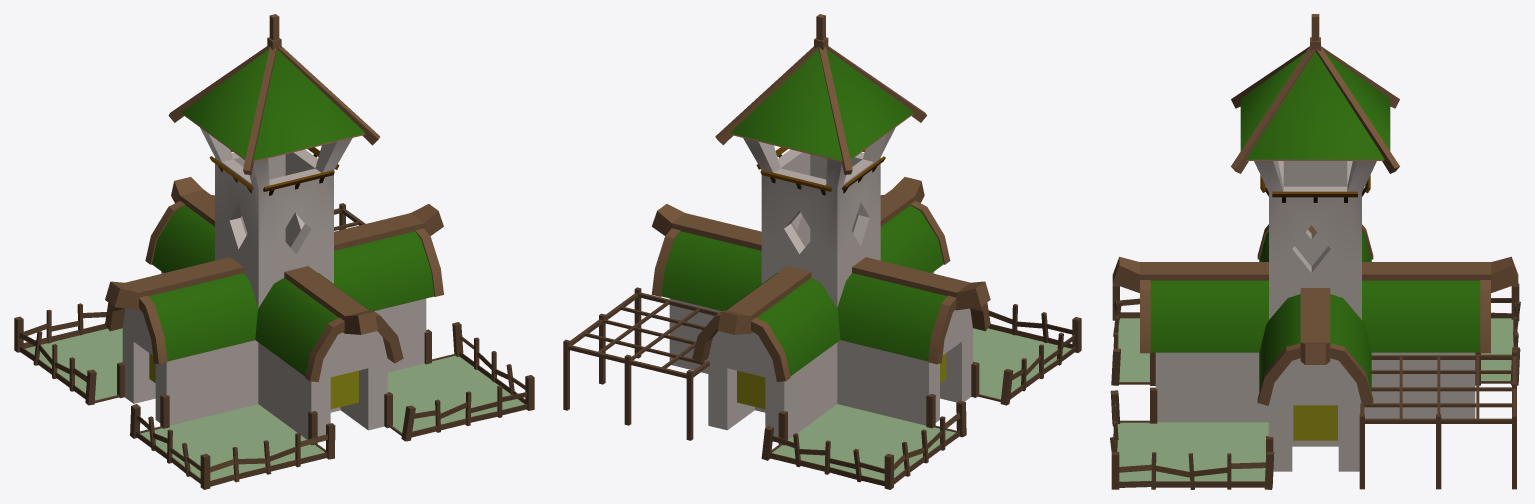
File: Farm_v2.fbx
The picture shows the model from 3 angles, left to right: view 1: azimuth 30°, elevation 25°; view 2: azimuth 150°, elevation 25°; view 3: azimuth 270°, elevation 25°; orthographic projection. The views are drawn at different scales.
Visible parts, largest first — view 1: Tower_low, TowerRoofLeaf, HouseWest_low, HouseSouth_low, LeafWest_low, soil_3, LeafEast_low, soil_1, Farmland_3, LeafSouth_low, Farmland_1, Farmland_2 (+14 smaller); view 2: Tower_low, TowerRoofLeaf, HouseWest_low, HouseNorth_low, LeafWest_low, soil_2, pCube1001, LeafEast_low, Farmland_2, LeafNorth_low, soil_3, Farmland_3 (+13 smaller); view 3: Tower_low, TowerRoofLeaf, LeafSouth_low, LeafNorth_low, soil_1, HouseSouth_low, HouseEast_low, pCube1001, HouseNorth_low, LeafEast_low, Farmland_1, RoofBeam_low (+12 smaller).
Part boxes in pixels (x1,y1,x2,y2): Tower_low: (200, 127, 352, 307); TowerRoofLeaf: (181, 49, 365, 160); HouseWest_low: (122, 308, 258, 425); HouseSouth_low: (258, 331, 387, 442); LeafWest_low: (148, 273, 258, 361); soil_3: (140, 404, 324, 480); LeafEast_low: (334, 231, 434, 310); soil_1: (387, 355, 524, 432); Farmland_3: (130, 394, 335, 489); LeafSouth_low: (255, 273, 369, 375); Farmland_1: (384, 322, 534, 441); Farmland_2: (14, 303, 124, 405); Tower_low: (743, 127, 895, 307); TowerRoofLeaf: (730, 49, 913, 160); HouseWest_low: (837, 308, 972, 425); HouseNorth_low: (708, 331, 837, 441); LeafWest_low: (837, 273, 946, 361); soil_2: (772, 404, 955, 480); pCube1001: (563, 287, 718, 440); LeafEast_low: (661, 231, 761, 310); Farmland_2: (761, 393, 966, 489); LeafNorth_low: (726, 273, 840, 375); soil_3: (973, 328, 1071, 399); Farmland_3: (971, 304, 1081, 405); Tower_low: (1254, 161, 1376, 319); TowerRoofLeaf: (1240, 51, 1390, 159); LeafSouth_low: (1150, 280, 1268, 352); LeafNorth_low: (1362, 280, 1480, 352); soil_1: (1117, 422, 1268, 481); HouseSouth_low: (1155, 352, 1268, 422); HouseEast_low: (1268, 358, 1361, 471); pCube1001: (1359, 350, 1516, 489); HouseNorth_low: (1364, 352, 1475, 418); LeafEast_low: (1259, 294, 1371, 391); Farmland_1: (1110, 387, 1274, 489); RoofBeam_low: (1231, 46, 1399, 173).
Size of the model in its own units: 13.85 by 14.53 by 13.89.
